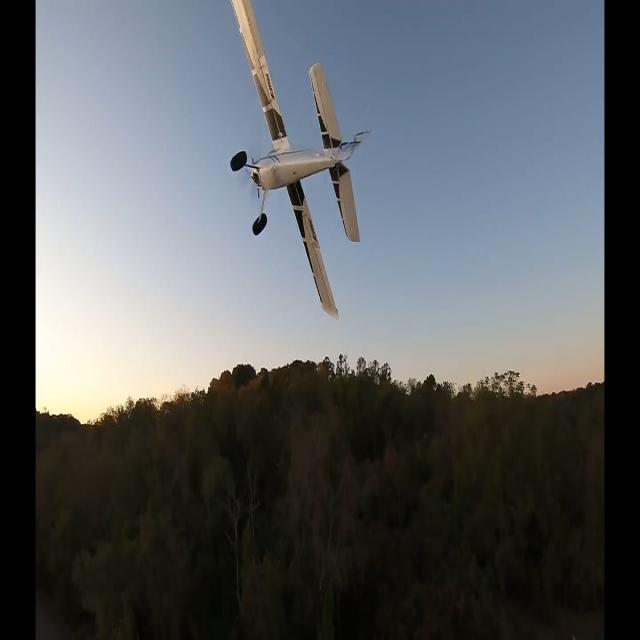iha: (228, 0, 372, 324)
